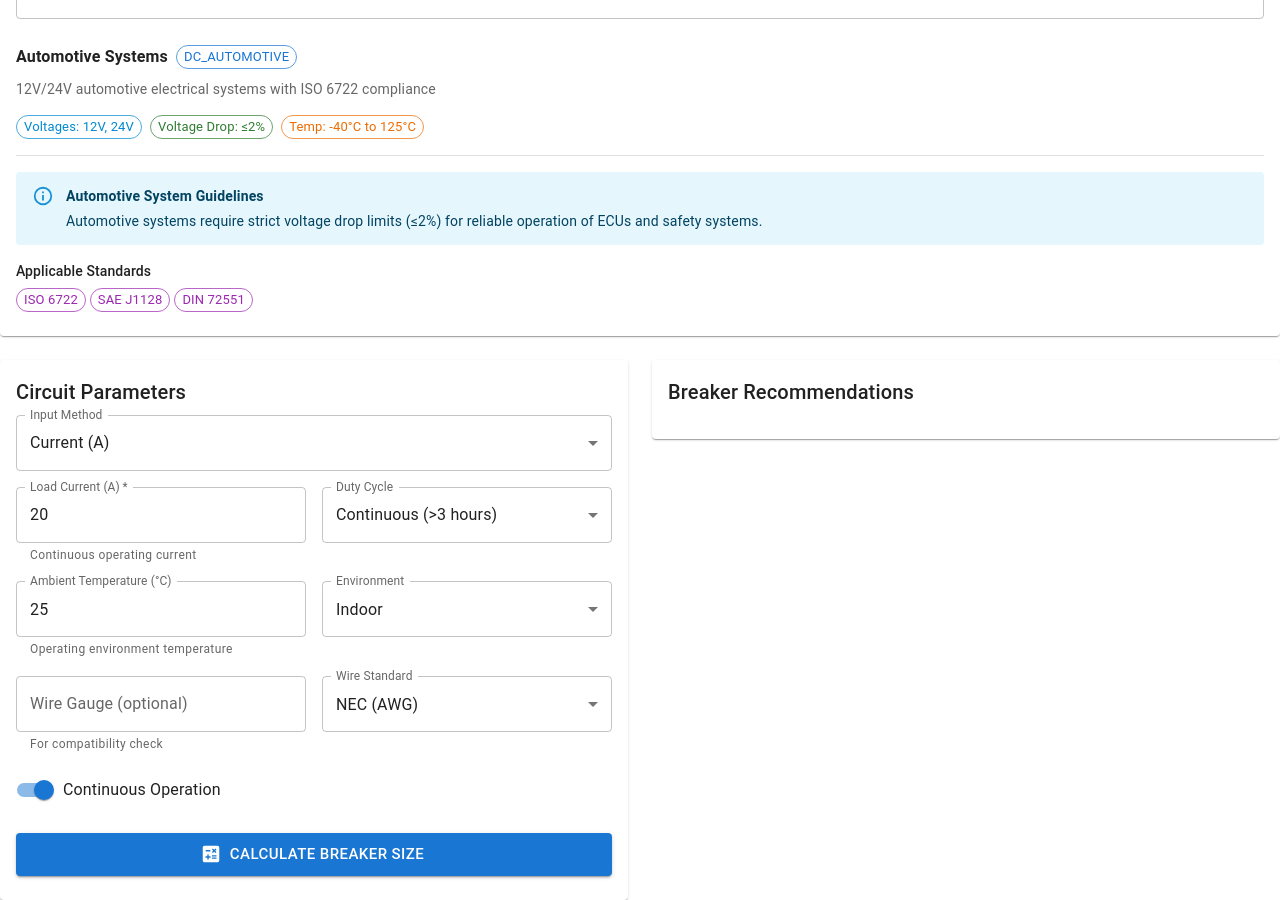
Test: DC Breaker Calculator › Loading and Error States › should show loading state during calculation
(page scrolled)
Note: Click calculate button
Click the button "Calculate Breaker Size" at (314, 854), box [16,833,612,876]
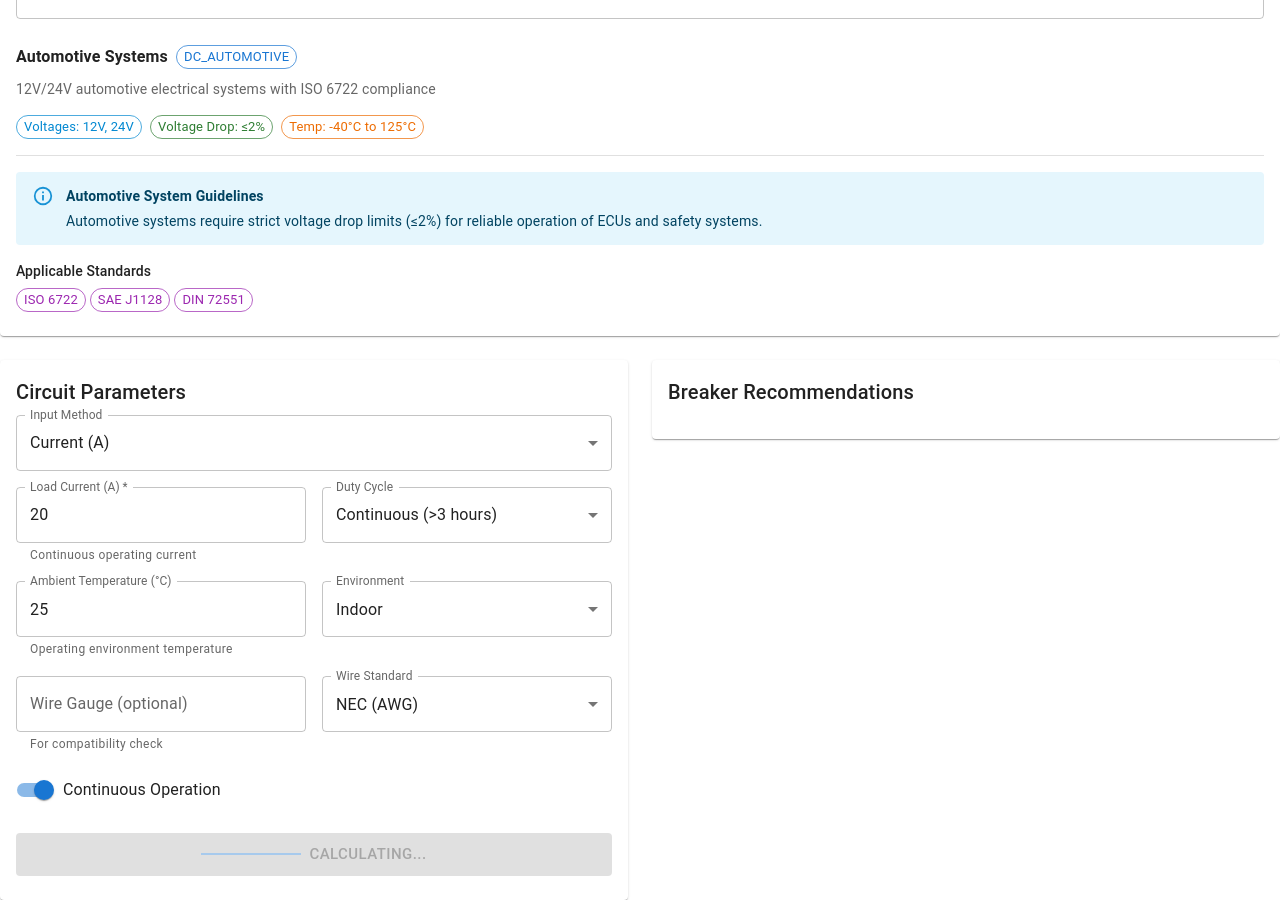
Expected: the text "Calculating..." is shown, [201,841,427,868]
Expected: the button "Calculate Breaker Size" is disabled, [16,833,612,876]
